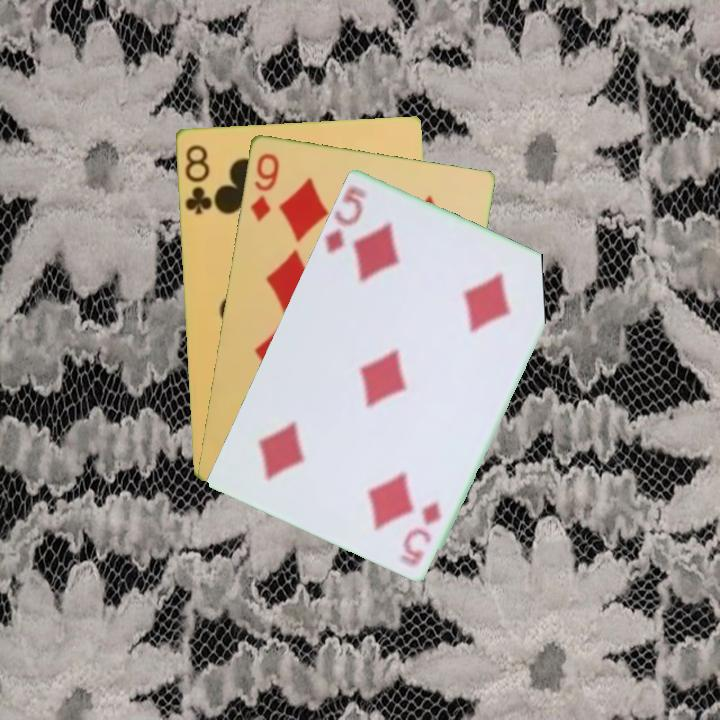5d: (321, 181, 369, 256), (403, 497, 444, 569)
8c: (181, 141, 215, 217)
9d: (247, 149, 282, 224)
